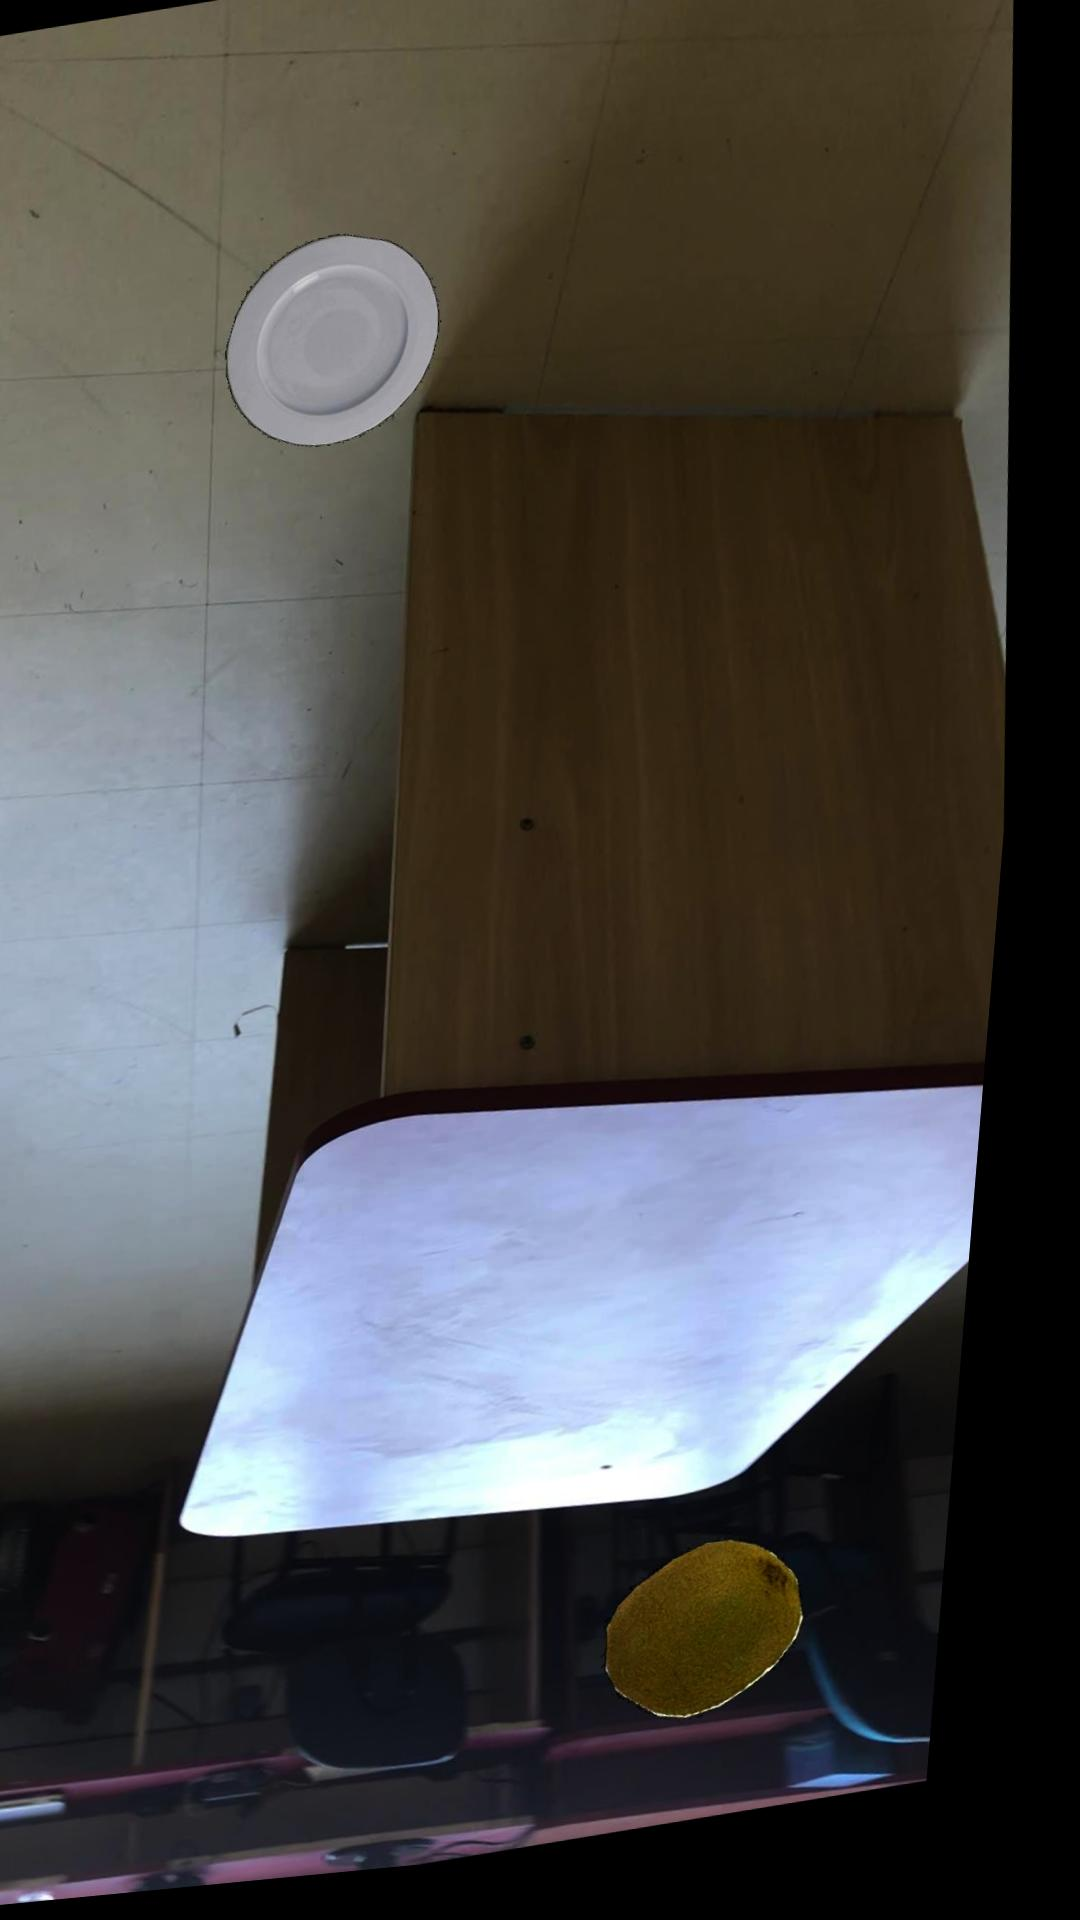kiwi: (630, 1557, 831, 1737)
plate: (229, 243, 443, 455)
